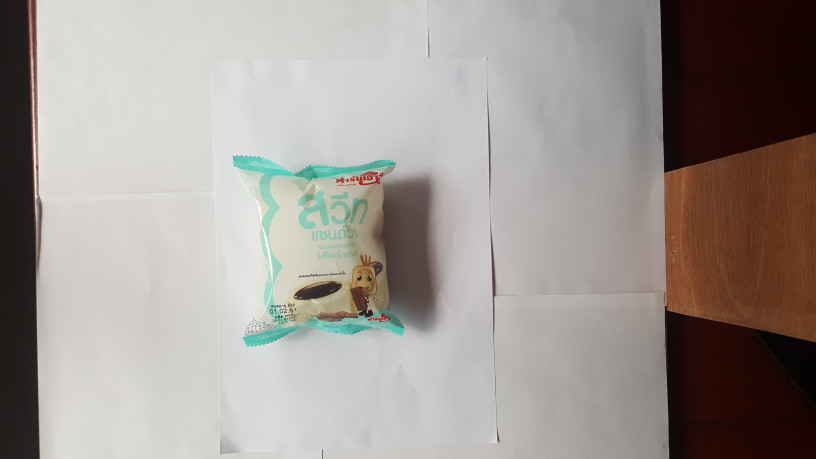farmhouse-sweetsandwich-chocolate: (228, 153, 412, 346)
